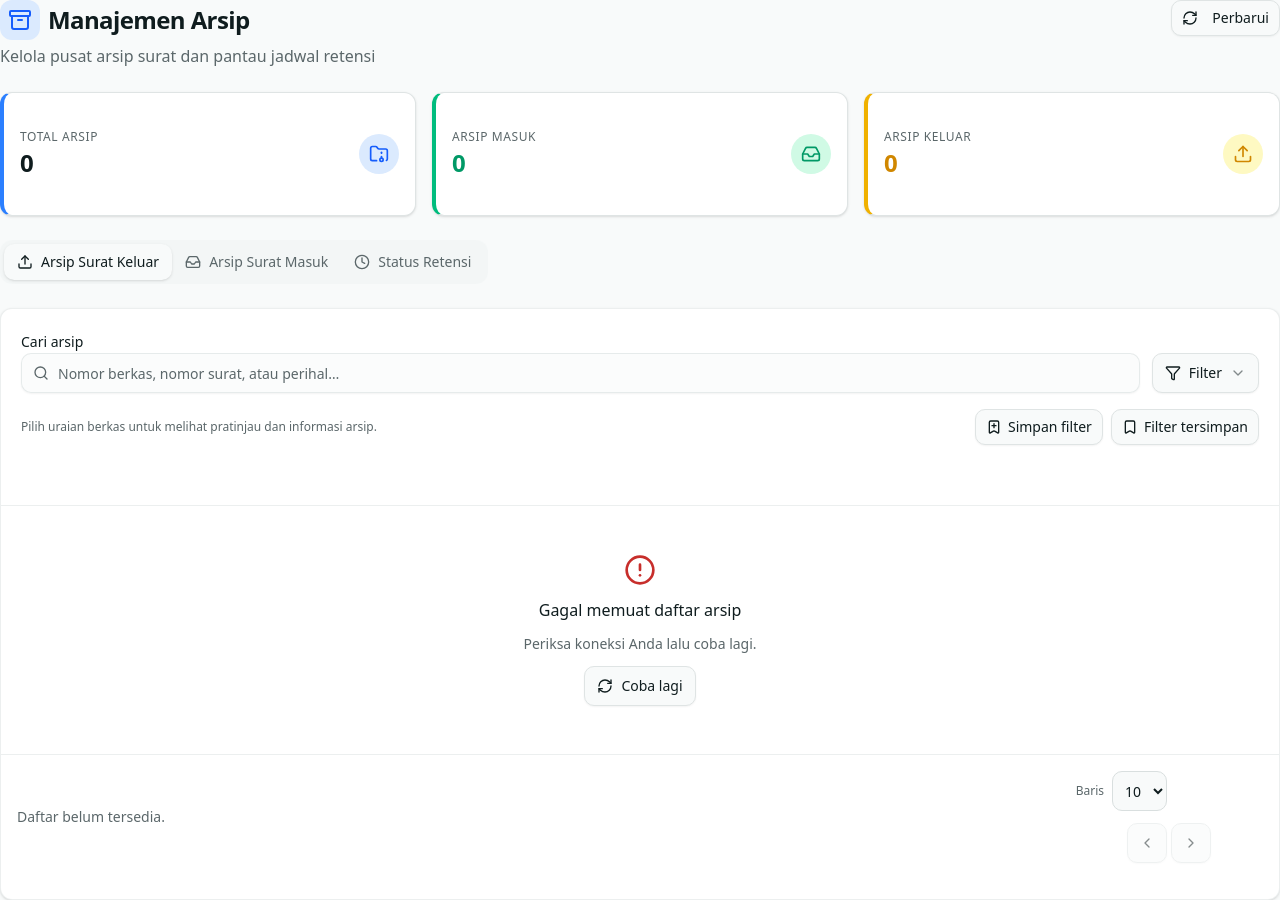
archive refresh › shows a load failure instead of an empty archive list and recovers on retry
Expected: the message "Gagal memuat daftar arsip Periksa koneksi Anda lalu coba lagi. Coba lagi" is shown, [523,554,757,706]
Click the button "Coba lagi" at coordinates (640, 686), box [584,666,696,706]
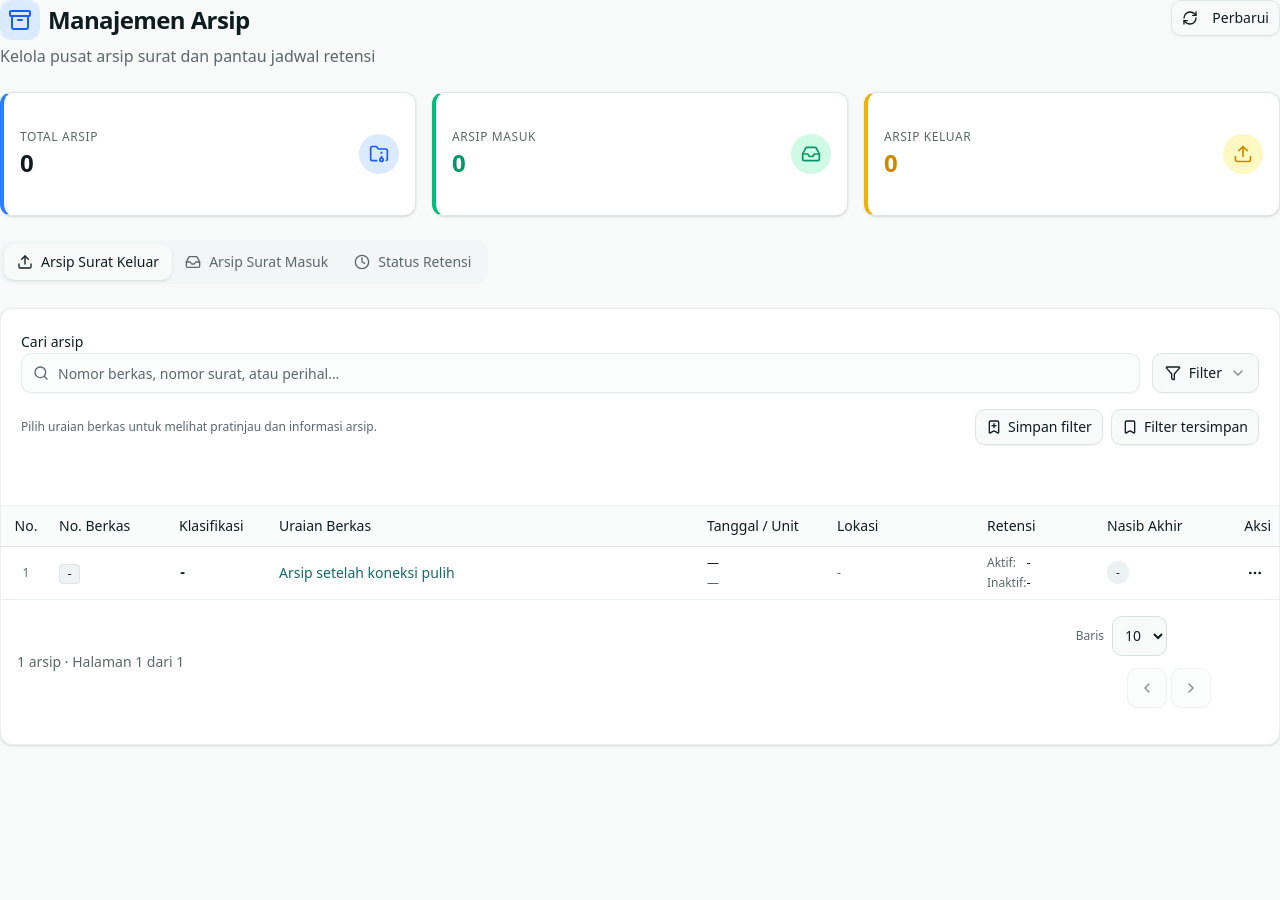
Expected: the button "Arsip setelah koneksi pulih" is shown, [279,554,579,590]
